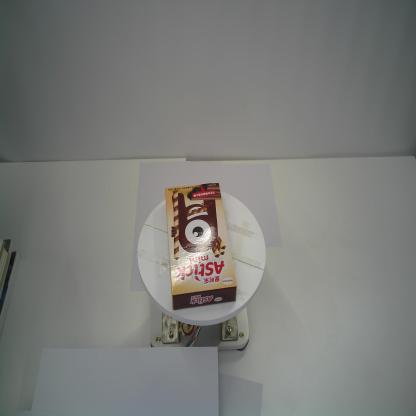Dessert: (165, 182, 237, 310)
